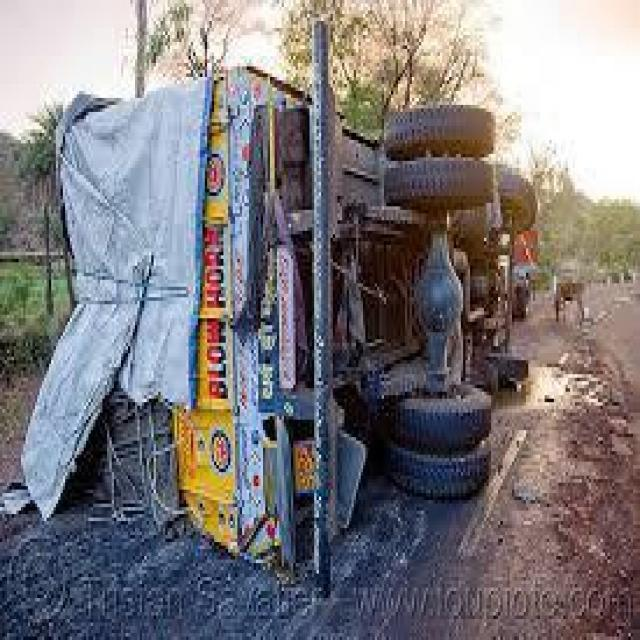severe: (19, 14, 552, 605)
